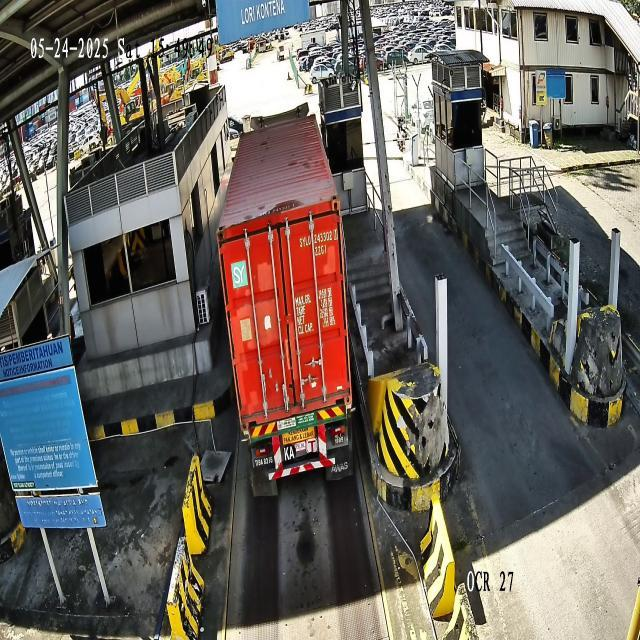ISO: (314, 244, 328, 258)
container_number: (299, 228, 338, 248)
